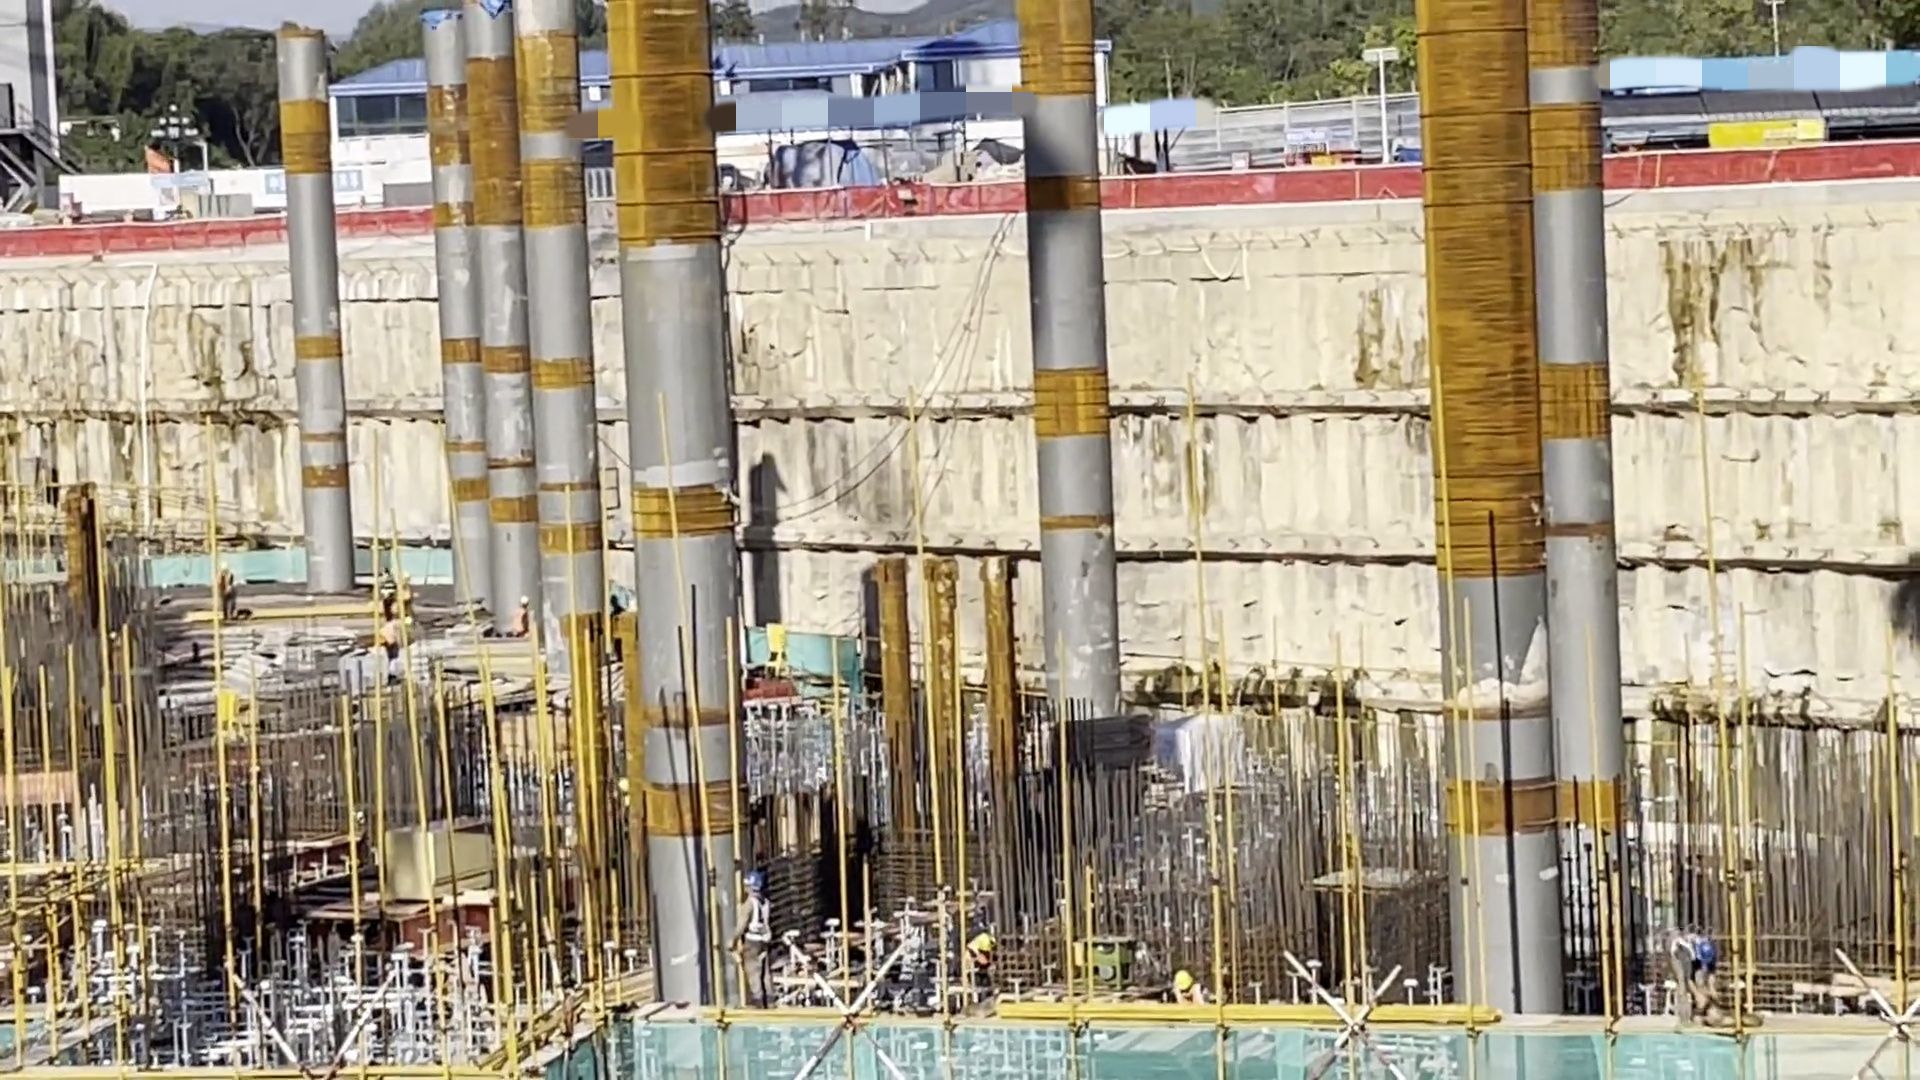helmet: (742, 873, 762, 892), (1173, 970, 1192, 990), (1704, 945, 1716, 968)
person: (1656, 931, 1719, 1026), (728, 873, 772, 1007)
vest: (742, 906, 770, 943)
